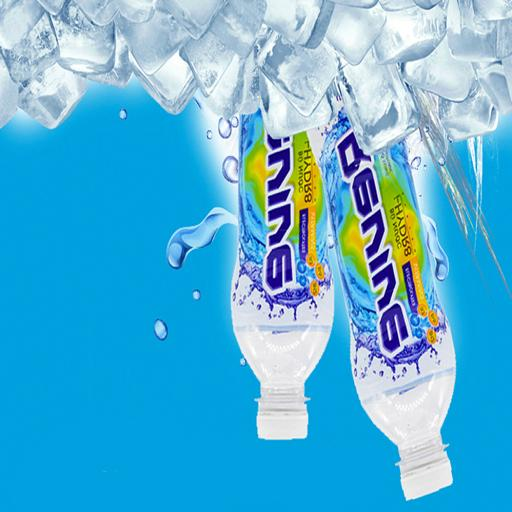bottle: (309, 112, 455, 499), (230, 112, 333, 439)
